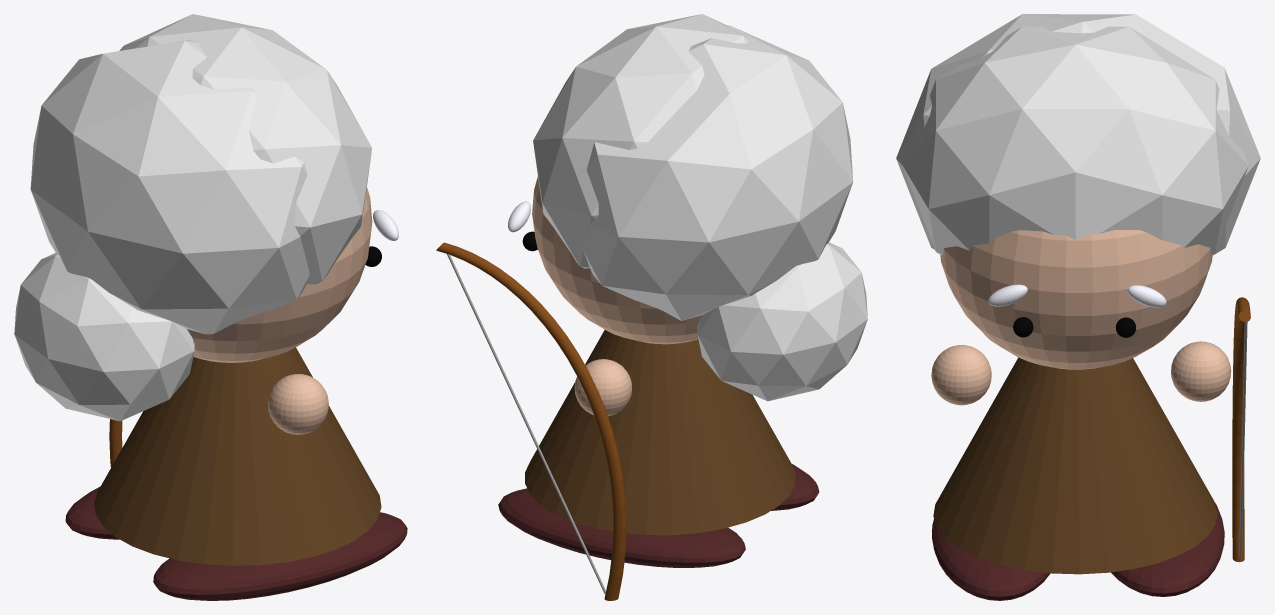
Rendered from obaasan.fbx.
3 renders of one model, left to right at view 1: azimuth 30°, elevation 25°; view 2: azimuth 150°, elevation 25°; view 3: azimuth 270°, elevation 25°, orthographic. The views are drawn at different scales.
Visible parts, largest first — view 1: Icosphere.002, Cone.004, Sphere.015, Sphere.013, Sphere.017, Sphere.014, Sphere.018, Cylinder.004; view 2: Icosphere.002, Cone.004, Sphere.014, Sphere.013, Cylinder.004, Sphere.016, Cylinder.005, Sphere.015; view 3: Icosphere.002, Cone.004, Sphere.013, Sphere.015, Sphere.014, Cylinder.004, Sphere.017, Sphere.016, Cylinder.005, Sphere.018, Sphere.019.
Boxes of the visible parts, x1,y1,x2,y2 form: Icosphere.002: [14, 14, 371, 421]; Cone.004: [94, 347, 381, 565]; Sphere.015: [153, 512, 407, 600]; Sphere.013: [187, 187, 372, 362]; Sphere.017: [268, 374, 328, 434]; Sphere.014: [65, 486, 119, 539]; Sphere.018: [373, 210, 398, 240]; Cylinder.004: [109, 419, 122, 467]; Icosphere.002: [533, 14, 867, 401]; Cone.004: [525, 330, 795, 535]; Sphere.014: [498, 488, 745, 567]; Sphere.013: [532, 176, 701, 344]; Cylinder.004: [436, 242, 626, 600]; Sphere.016: [574, 359, 631, 416]; Cylinder.005: [444, 245, 605, 593]; Sphere.015: [771, 463, 819, 510]; Icosphere.002: [896, 14, 1260, 255]; Cone.004: [933, 357, 1217, 574]; Sphere.013: [940, 230, 1212, 369]; Sphere.015: [932, 519, 1050, 600]; Sphere.014: [1111, 502, 1224, 596]; Cylinder.004: [1232, 297, 1250, 562]; Sphere.017: [931, 345, 991, 405]; Sphere.016: [1171, 341, 1231, 401]; Cylinder.005: [1239, 322, 1247, 557]; Sphere.018: [988, 284, 1027, 306]; Sphere.019: [1127, 285, 1166, 307].
Size of the model in its own units: 169 by 244 by 152.
